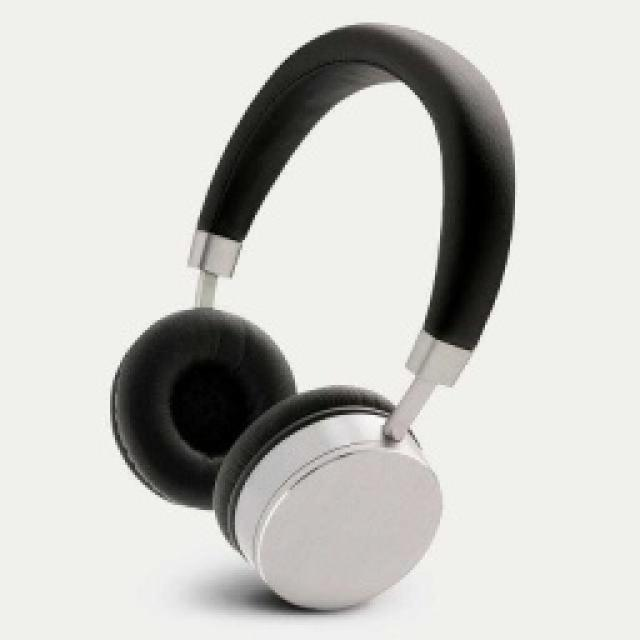headphones: (107, 20, 515, 610)
